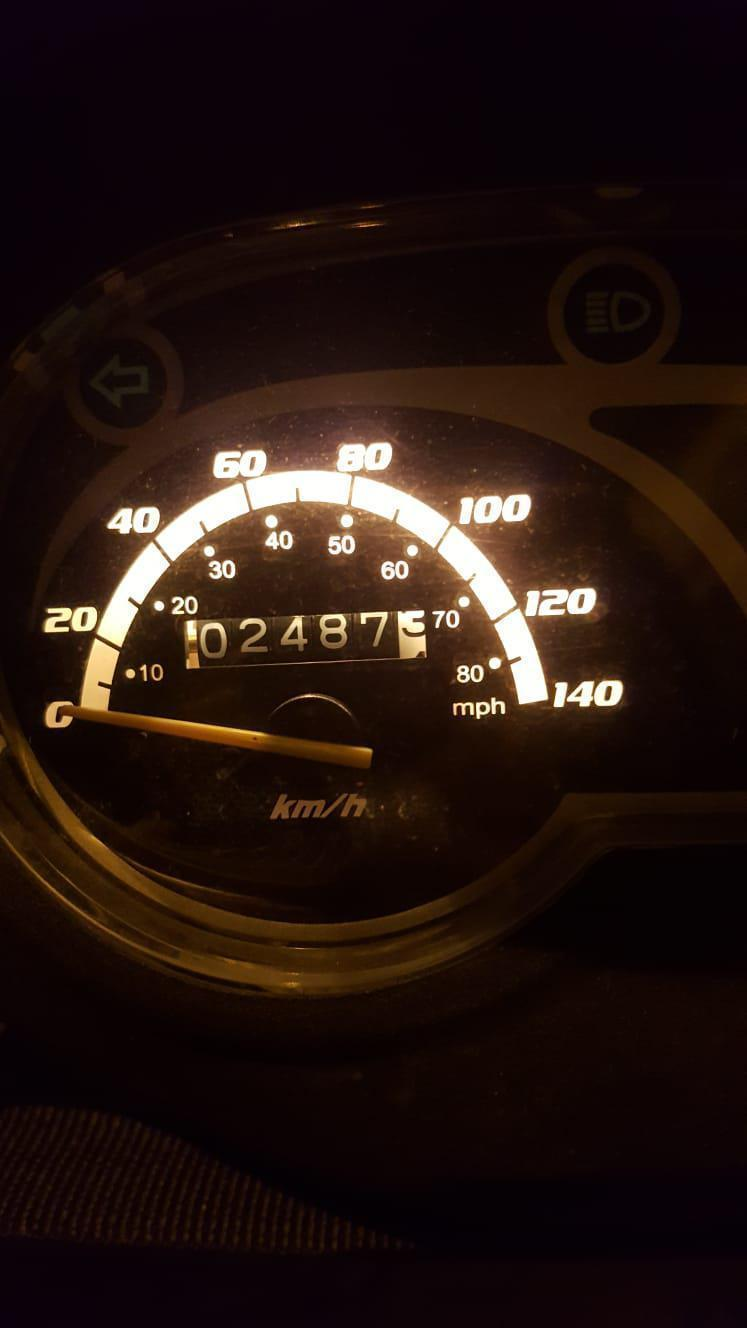0: (198, 618, 228, 662), (186, 593, 198, 615)
2: (238, 614, 267, 657), (171, 594, 184, 616)
3: (400, 604, 428, 639)
4: (279, 612, 310, 653)
7: (359, 608, 390, 650), (433, 607, 445, 630)
8: (318, 610, 350, 651)
odometer: (174, 597, 442, 678)
